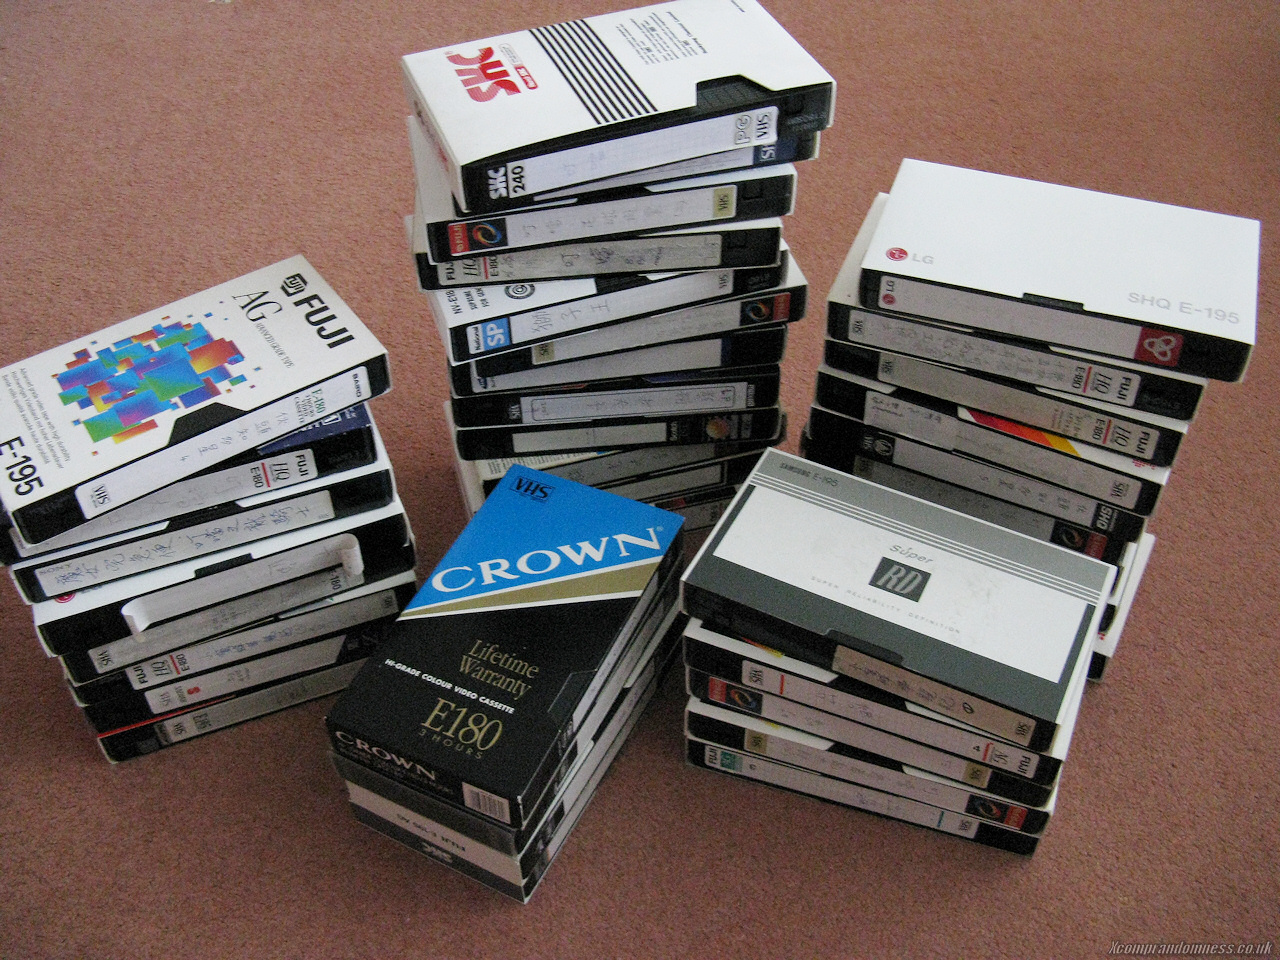Nonrec_Other: (769, 105, 1258, 590), (1, 281, 494, 715), (361, 5, 814, 430), (311, 423, 720, 887), (678, 446, 1123, 864)
